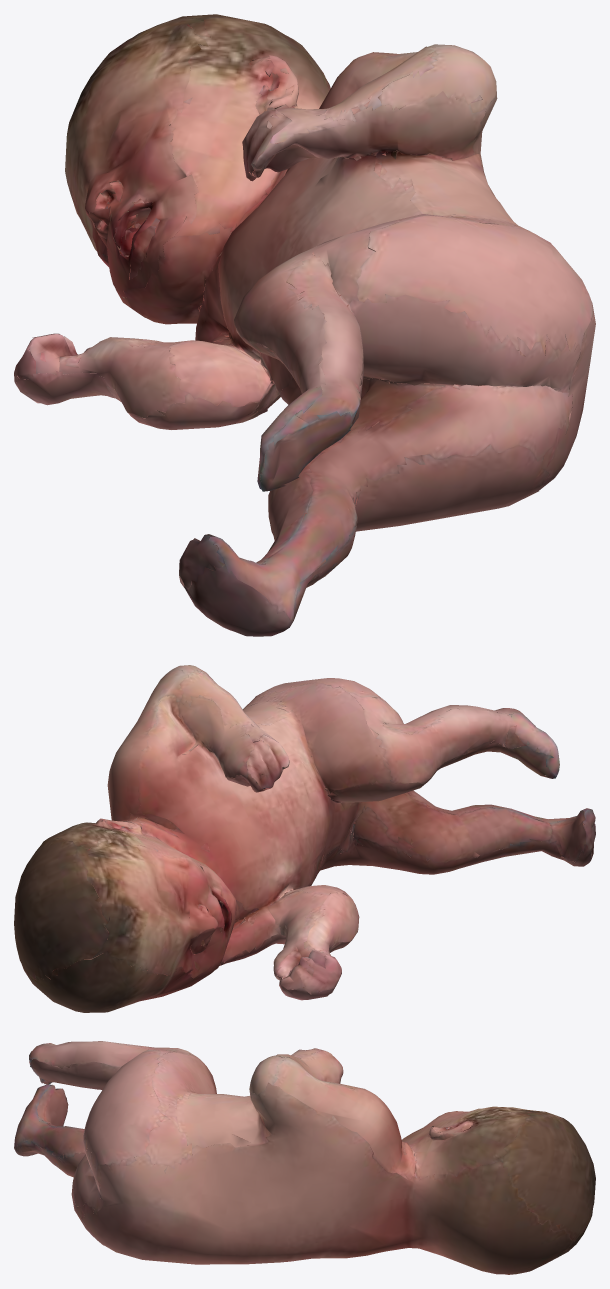
The model's file is prop_infant_b.glb.
3 renders of one model, top to bottom at view 1: azimuth 30°, elevation 25°; view 2: azimuth 150°, elevation 25°; view 3: azimuth 270°, elevation 25°, orthographic. The views are drawn at different scales.
Parts seen in each view (by area): view 1: Object_2; view 2: Object_2; view 3: Object_2.
Boxes of the visible parts, x1,y1,x2,y2 form: Object_2: (14, 14, 595, 636); Object_2: (14, 665, 595, 1012); Object_2: (14, 1041, 595, 1274).
Size of the model in its own units: 0.3636 by 0.25 by 0.5908.
1 material, 1 textured.
